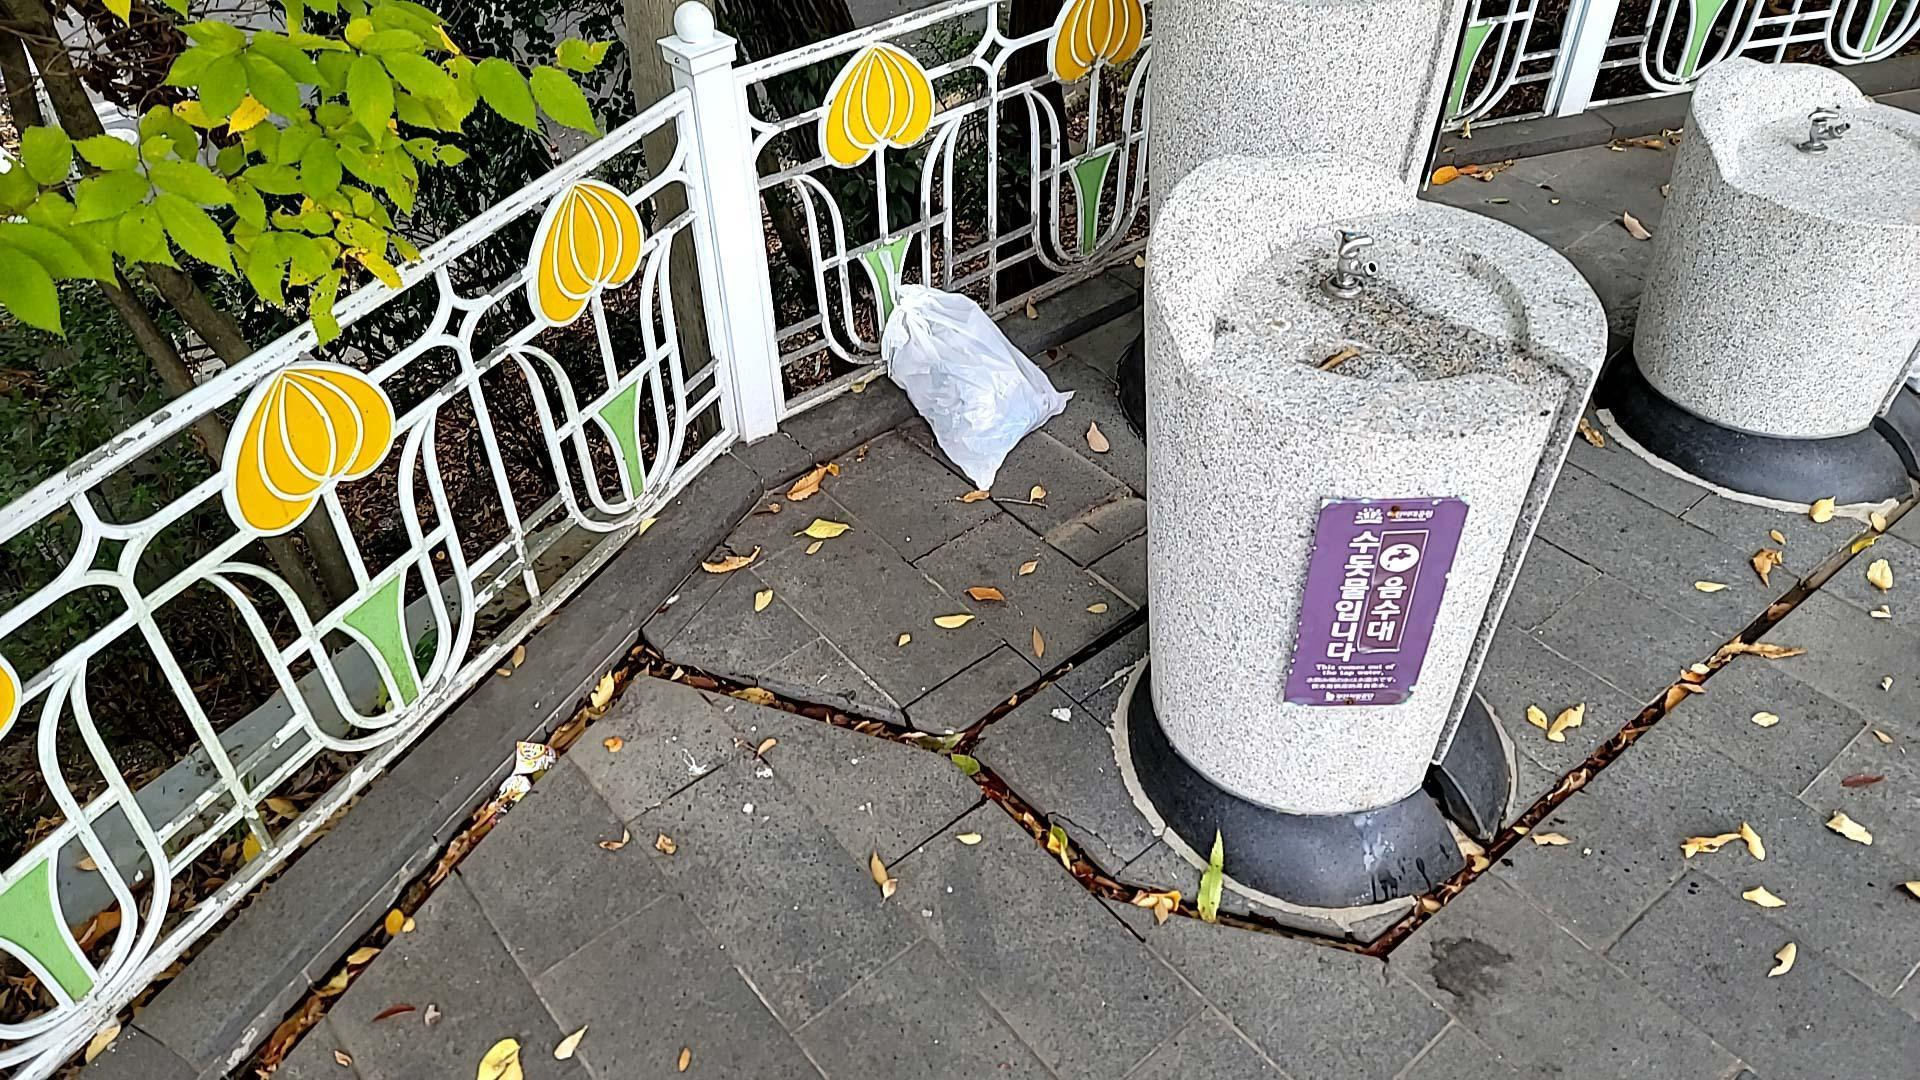white_bag: (862, 258, 1079, 498)
